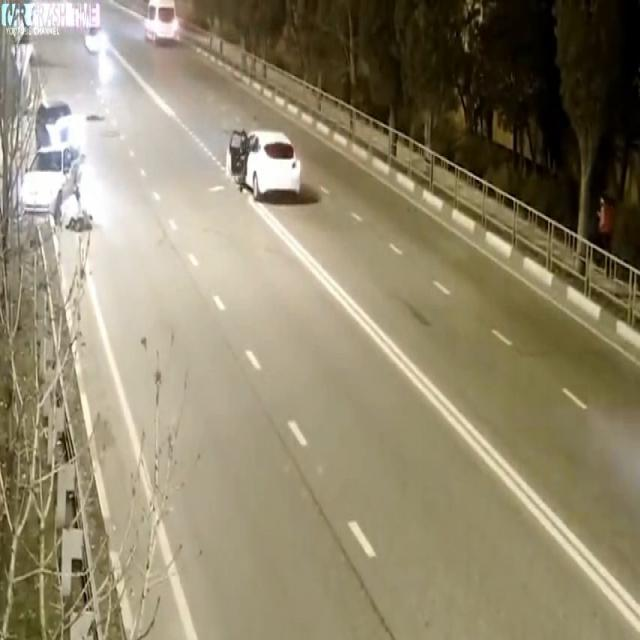Accident: (9, 102, 90, 254)
